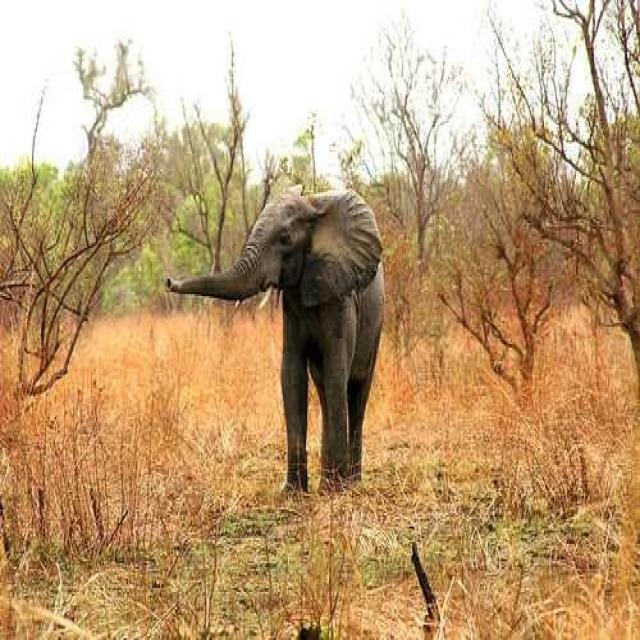Elephant: (164, 182, 385, 496)
